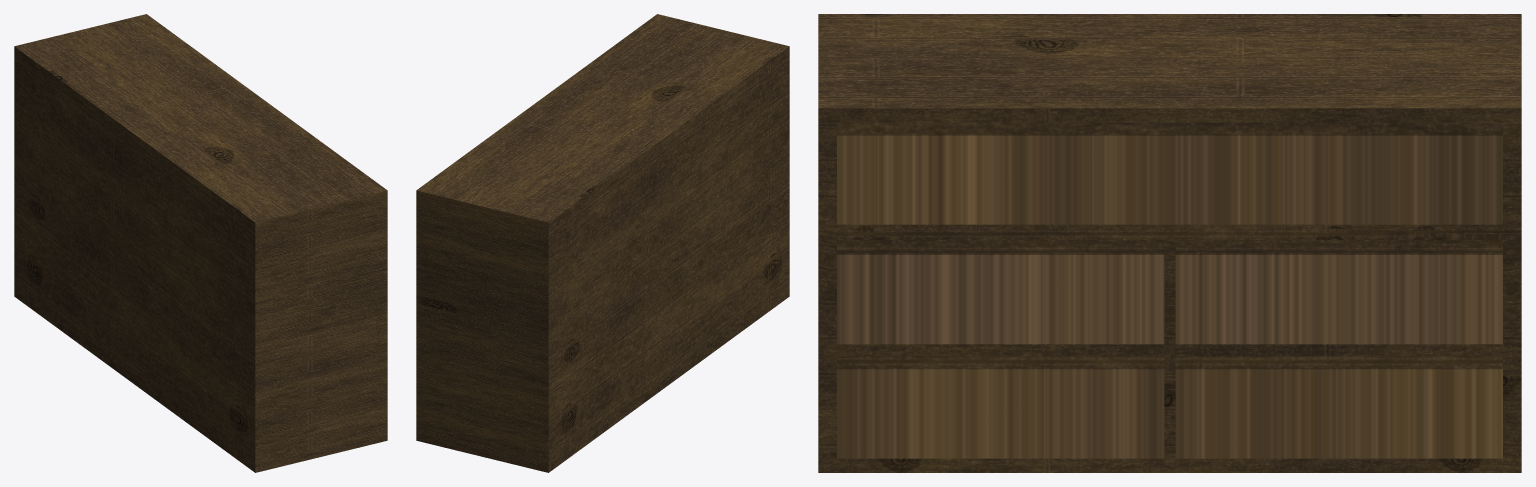
Rendered from dresser_base.fbx.
The picture shows the model from 3 angles, left to right: view 1: azimuth 30°, elevation 25°; view 2: azimuth 150°, elevation 25°; view 3: azimuth 270°, elevation 25°; orthographic projection. The views are drawn at different scales.
Parts seen in each view (by area): view 1: base; view 2: base; view 3: base.
Part boxes in pixels (left/top/right/bottom): base: left=14, top=14, right=387, bottom=472; base: left=416, top=14, right=789, bottom=472; base: left=818, top=14, right=1521, bottom=472.
Bounding box in the file's own units: 47.5 × 85.79 × 150.
